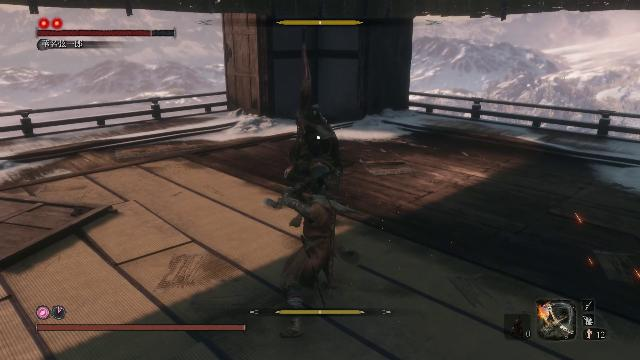sk: (275, 175, 338, 340)
